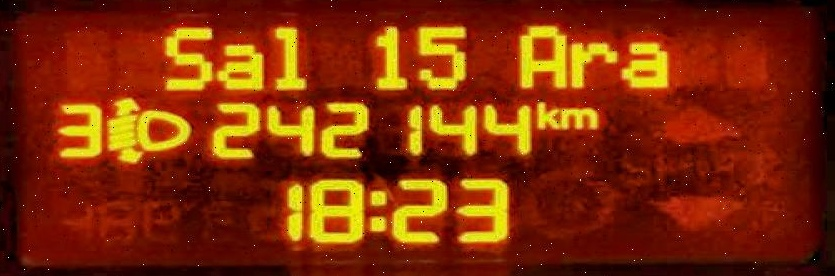1: (368, 19, 408, 98), (281, 176, 305, 246), (403, 97, 427, 162)
2: (392, 174, 448, 247), (207, 97, 262, 161), (318, 97, 370, 157)
3: (457, 175, 512, 245), (55, 98, 101, 162)
4: (263, 98, 315, 155), (480, 97, 530, 156), (428, 97, 477, 156)
5: (415, 21, 473, 91)
8: (307, 176, 363, 246)
X: (162, 22, 212, 94), (517, 22, 568, 88), (270, 20, 311, 93), (620, 38, 671, 89), (568, 37, 618, 88), (216, 38, 265, 89), (366, 182, 390, 236), (560, 103, 600, 132), (535, 97, 558, 131)
